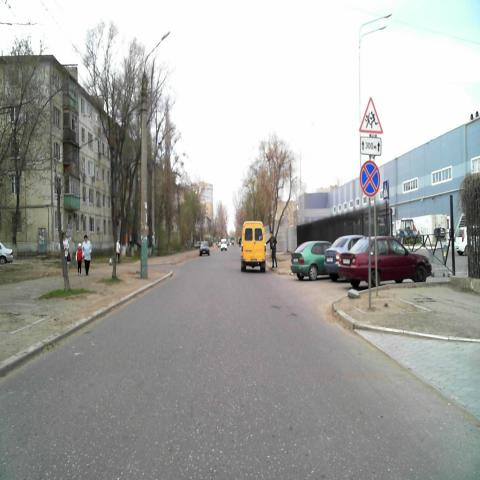8_2_1: (360, 135, 382, 157)
